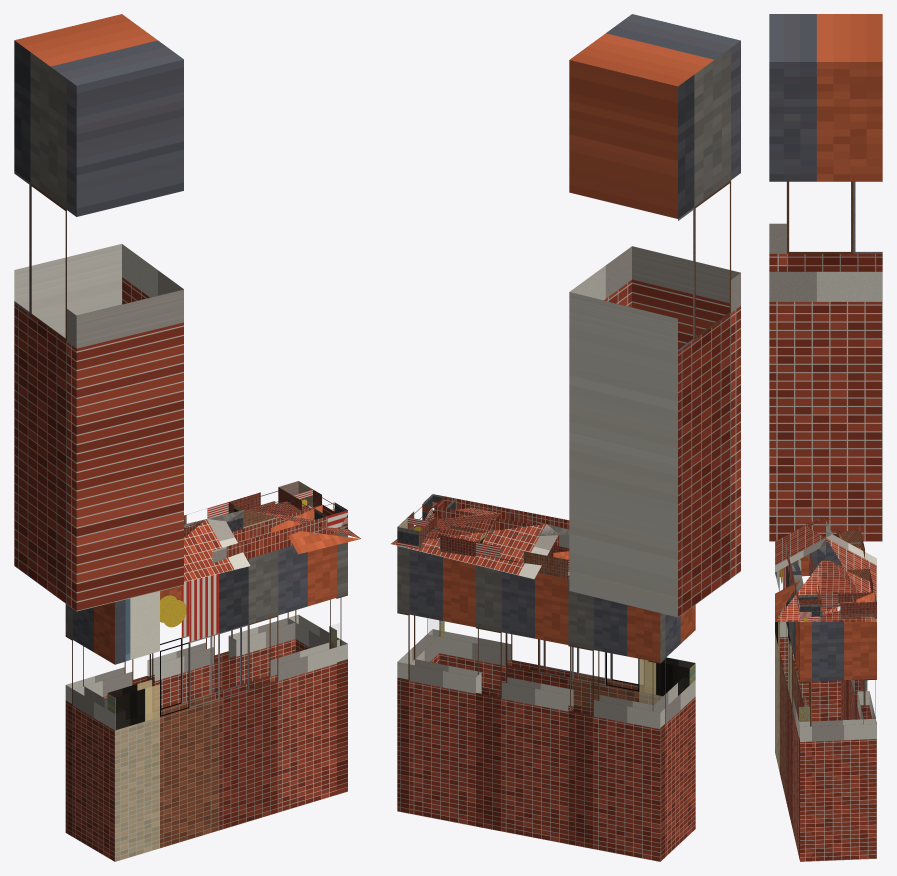
The picture shows the model from 3 angles, left to right: view 1: azimuth 30°, elevation 25°; view 2: azimuth 150°, elevation 25°; view 3: azimuth 270°, elevation 25°; orthographic projection. The views are drawn at different scales.
Parts seen in each view (by area): view 1: 238572344__chimney_0_xb, 238572344__wall_0_xb, 238572344__wall_6_xb, 238572344__wall_4_xb, 238572344_roof_front_xb, 238572344__wall_2_xb, 238572344__wall_0_xf, 238572344__cornice_0, 238572344__wall_3_xb, 238572344__wall_5_xb, 238572344__cornice_3, 238572344__cornice_2 (+2 smaller); view 2: 238572344__chimney_0_xb, 238572344__wall_4_xb, 238572344__wall_5_xb, 238572344__wall_3_xb, 238572344__wall_0_xb, 238572344__wall_6_xb, 238572344_roof_back_xb, 238572344__cornice_0, 238572344_roof_right_xb, 238572344__wall_0_xf, 238572344__cornice_3, 238572344__cornice_4 (+1 smaller); view 3: 238572344__chimney_0_xb, 238572344__wall_2_xb, 238572344__wall_0_xb, 238572344_roof_right_xb, 238572344__wall_6_xb, 238572344__wall_1_xb, 238572344_roof_front_xb, 238572344__cornice_2, 238572344_roof_back_xb, 238572344__wall_4_xb, 238572344__wall_5_xb, 238572344__wall_3_xb (+5 smaller).
Part boxes in pixels (left/top/right/bottom): 238572344__chimney_0_xb: left=14, top=14, right=183, bottom=611; 238572344__wall_0_xb: left=107, top=532, right=336, bottom=861; 238572344__wall_6_xb: left=65, top=600, right=125, bottom=861; 238572344__wall_4_xb: left=147, top=586, right=236, bottom=709; 238572344_roof_front_xb: left=184, top=519, right=360, bottom=581; 238572344__wall_2_xb: left=287, top=532, right=347, bottom=794; 238572344__wall_0_xf: left=107, top=599, right=336, bottom=729; 238572344__cornice_0: left=212, top=504, right=336, bottom=562; 238572344__wall_3_xb: left=228, top=517, right=296, bottom=685; 238572344__wall_5_xb: left=65, top=654, right=154, bottom=709; 238572344__cornice_3: left=229, top=481, right=312, bottom=528; 238572344__cornice_2: left=278, top=481, right=347, bottom=532; 238572344__chimney_0_xb: left=569, top=14, right=740, bottom=617; 238572344__wall_4_xb: left=476, top=565, right=573, bottom=844; 238572344__wall_5_xb: left=568, top=578, right=664, bottom=861; 238572344__wall_3_xb: left=397, top=546, right=481, bottom=826; 238572344__wall_0_xb: left=439, top=620, right=695, bottom=708; 238572344__wall_6_xb: left=648, top=605, right=695, bottom=861; 238572344_roof_back_xb: left=390, top=524, right=558, bottom=578; 238572344__cornice_0: left=434, top=496, right=569, bottom=548; 238572344_roof_right_xb: left=391, top=507, right=569, bottom=543; 238572344__wall_0_xf: left=440, top=621, right=695, bottom=695; 238572344__cornice_3: left=397, top=517, right=486, bottom=556; 238572344__cornice_4: left=476, top=532, right=569, bottom=578; 238572344__chimney_0_xb: left=769, top=14, right=882, bottom=541; 238572344__wall_2_xb: left=799, top=622, right=876, bottom=861; 238572344__wall_0_xb: left=775, top=561, right=809, bottom=855; 238572344_roof_right_xb: left=775, top=521, right=876, bottom=621; 238572344__wall_6_xb: left=775, top=541, right=840, bottom=721; 238572344__wall_1_xb: left=799, top=622, right=811, bottom=861; 238572344_roof_front_xb: left=775, top=525, right=825, bottom=621; 238572344__cornice_2: left=798, top=592, right=876, bottom=621; 238572344_roof_back_xb: left=826, top=534, right=876, bottom=621; 238572344__wall_4_xb: left=848, top=547, right=869, bottom=719; 238572344__wall_5_xb: left=841, top=563, right=860, bottom=720; 238572344__wall_3_xb: left=857, top=679, right=876, bottom=723.
Bounding box in the file's own units: 0.4016 × 1.05 × 0.15.
Materials: 1 (1 with a texture image).
